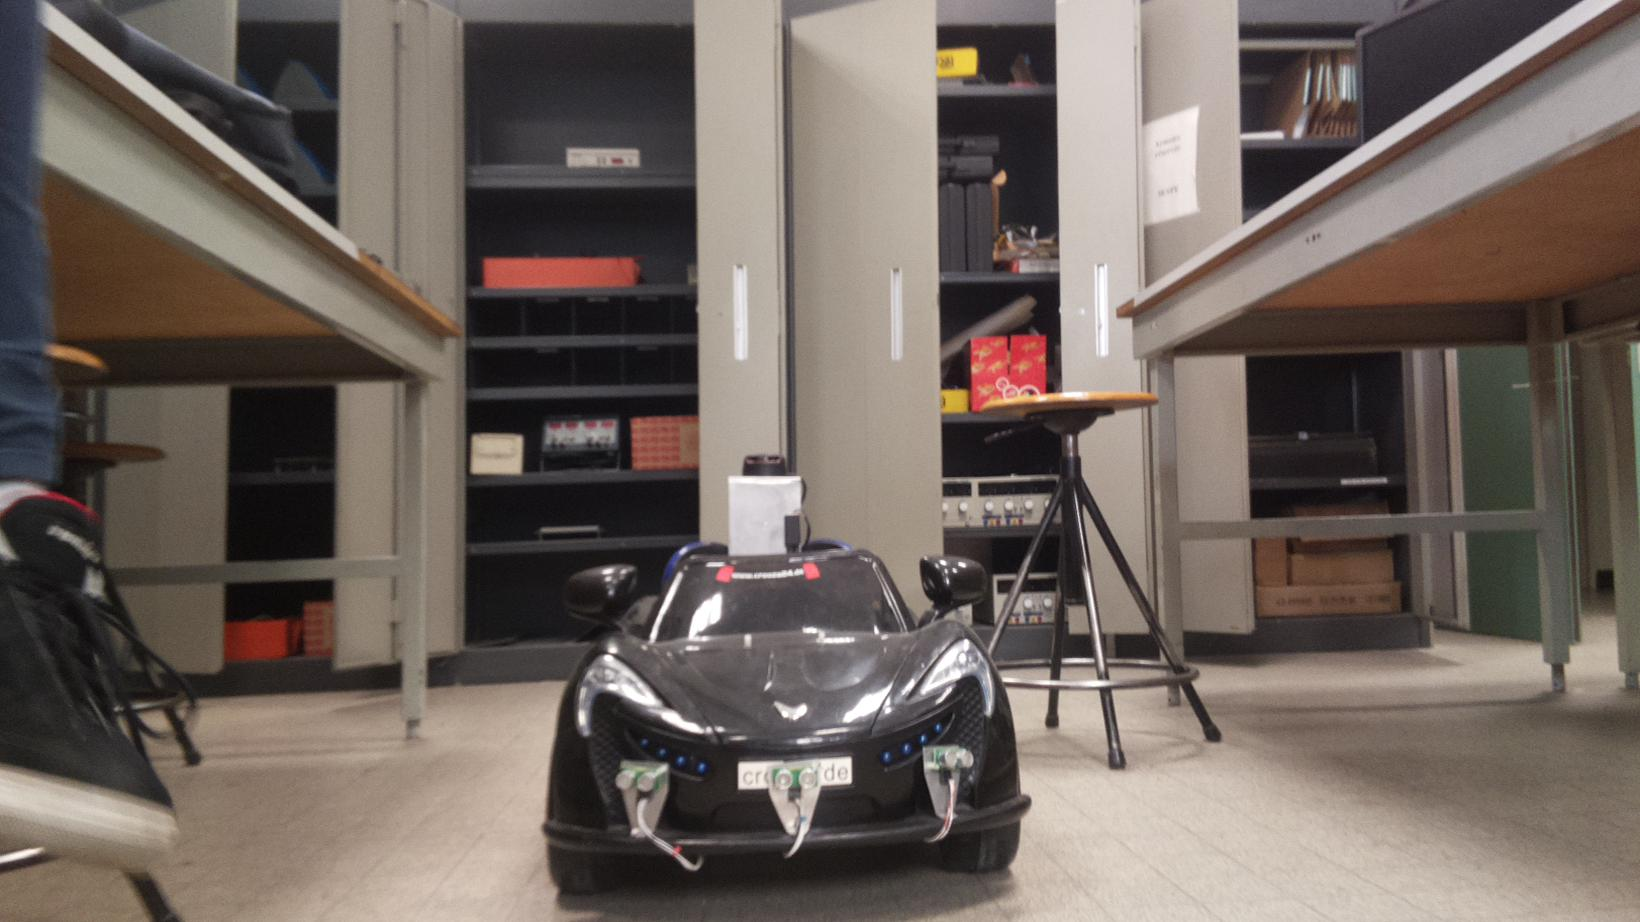big: (542, 453, 1034, 885)
